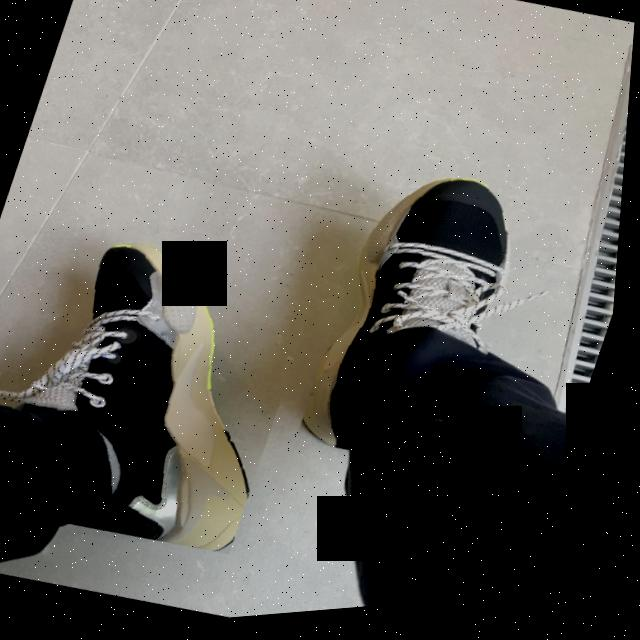shoe: (0, 203, 332, 576), (300, 156, 557, 490)
